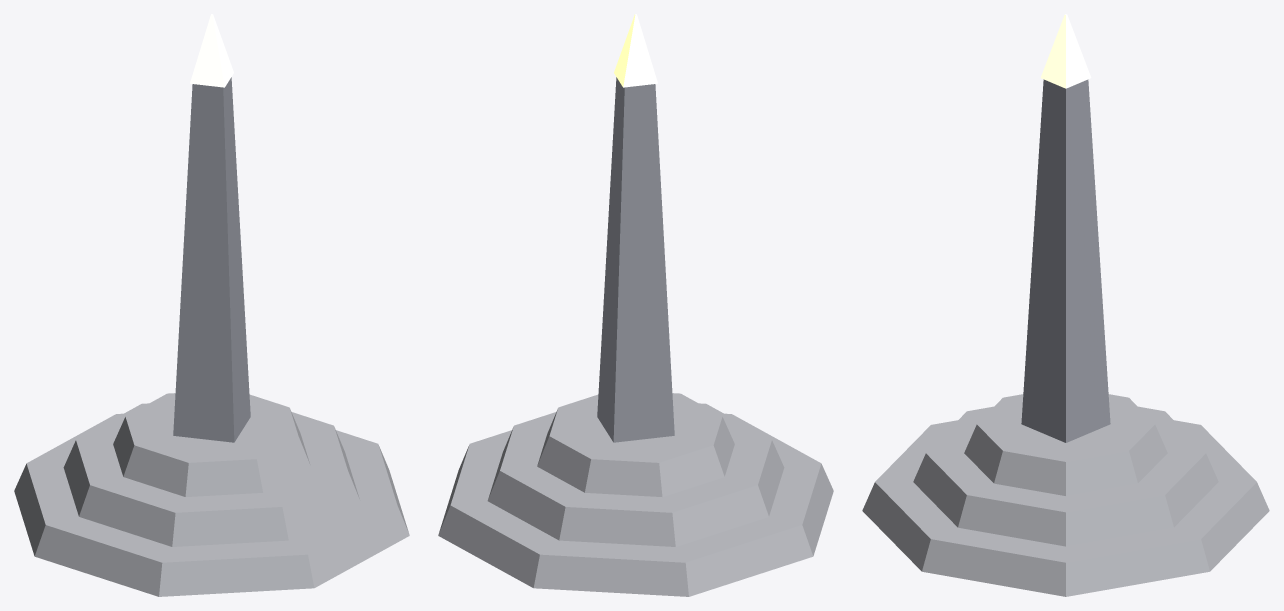
The model's file is monument.glb.
The picture shows the model from 3 angles, left to right: view 1: azimuth 30°, elevation 25°; view 2: azimuth 150°, elevation 25°; view 3: azimuth 270°, elevation 25°; orthographic projection.
Parts seen in each view (by area): view 1: plinth, obelisk, cap; view 2: plinth, obelisk, cap; view 3: plinth, obelisk, cap.
Part boxes in pixels (x1,y1,x2,y2): plinth: [14, 393, 409, 596]; obelisk: [173, 77, 250, 442]; cap: [190, 14, 233, 87]; plinth: [438, 393, 833, 596]; obelisk: [597, 77, 674, 442]; cap: [614, 14, 657, 87]; plinth: [862, 394, 1269, 596]; obelisk: [1021, 79, 1110, 442]; cap: [1040, 14, 1091, 88].
Size of the model in its own units: 6.4 by 8.6 by 6.4.
